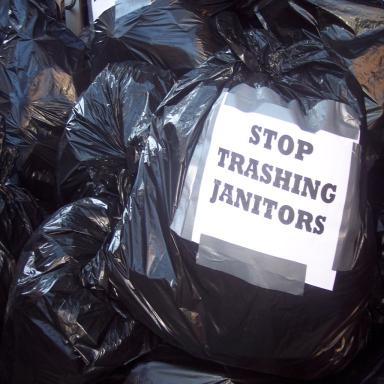plasticbag: (0, 0, 381, 383)
